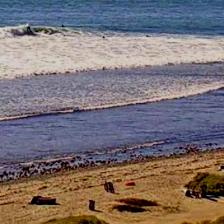surfer: (27, 26, 32, 32), (61, 24, 66, 27), (102, 35, 105, 38), (146, 34, 150, 36)
